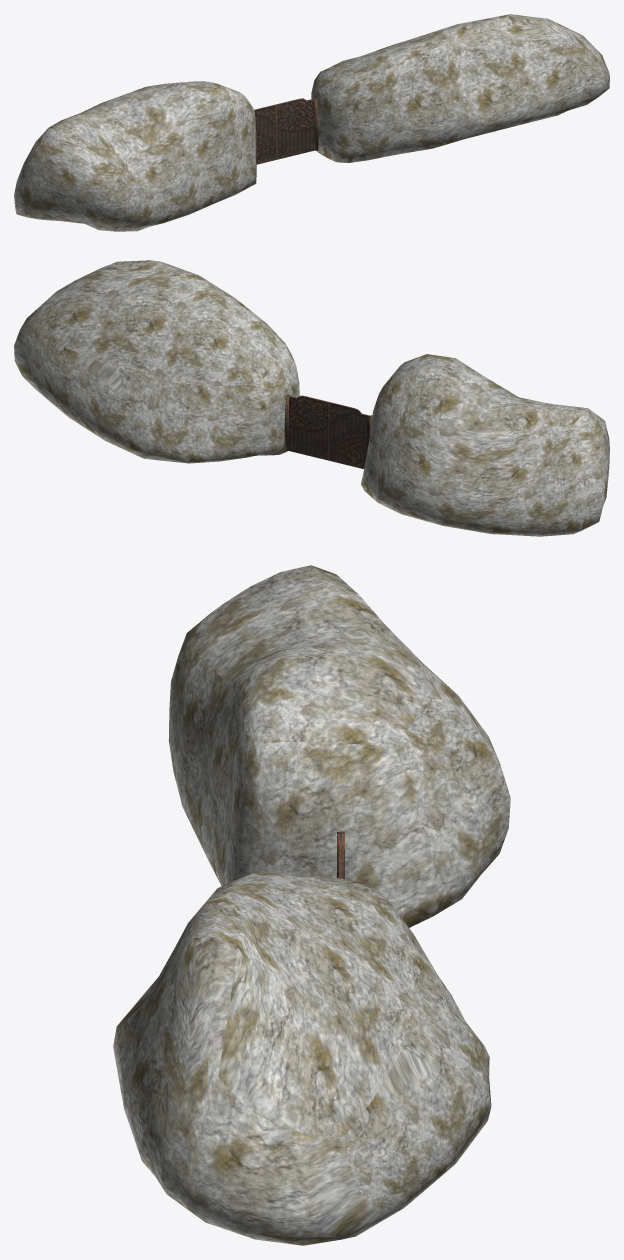
The model's file is Cerca.fbx.
The picture shows the model from 3 angles, top to bottom: view 1: azimuth 30°, elevation 25°; view 2: azimuth 150°, elevation 25°; view 3: azimuth 270°, elevation 25°; orthographic projection. The views are drawn at different scales.
Parts seen in each view (by area): view 1: b_door, startdoor.001; view 2: b_door, startdoor.001; view 3: b_door.
Boxes of the visible parts, x1=… form: b_door: x1=14, y1=14, x2=609, y2=231; startdoor.001: x1=254, y1=104, x2=276, y2=164; b_door: x1=14, y1=260, x2=609, y2=536; startdoor.001: x1=329, y1=402, x2=369, y2=468; b_door: x1=113, y1=565, x2=510, y2=1245.
Bounding box in the file's own units: 5406 × 1135 × 1637.
Materials: 2 (2 with a texture image).
